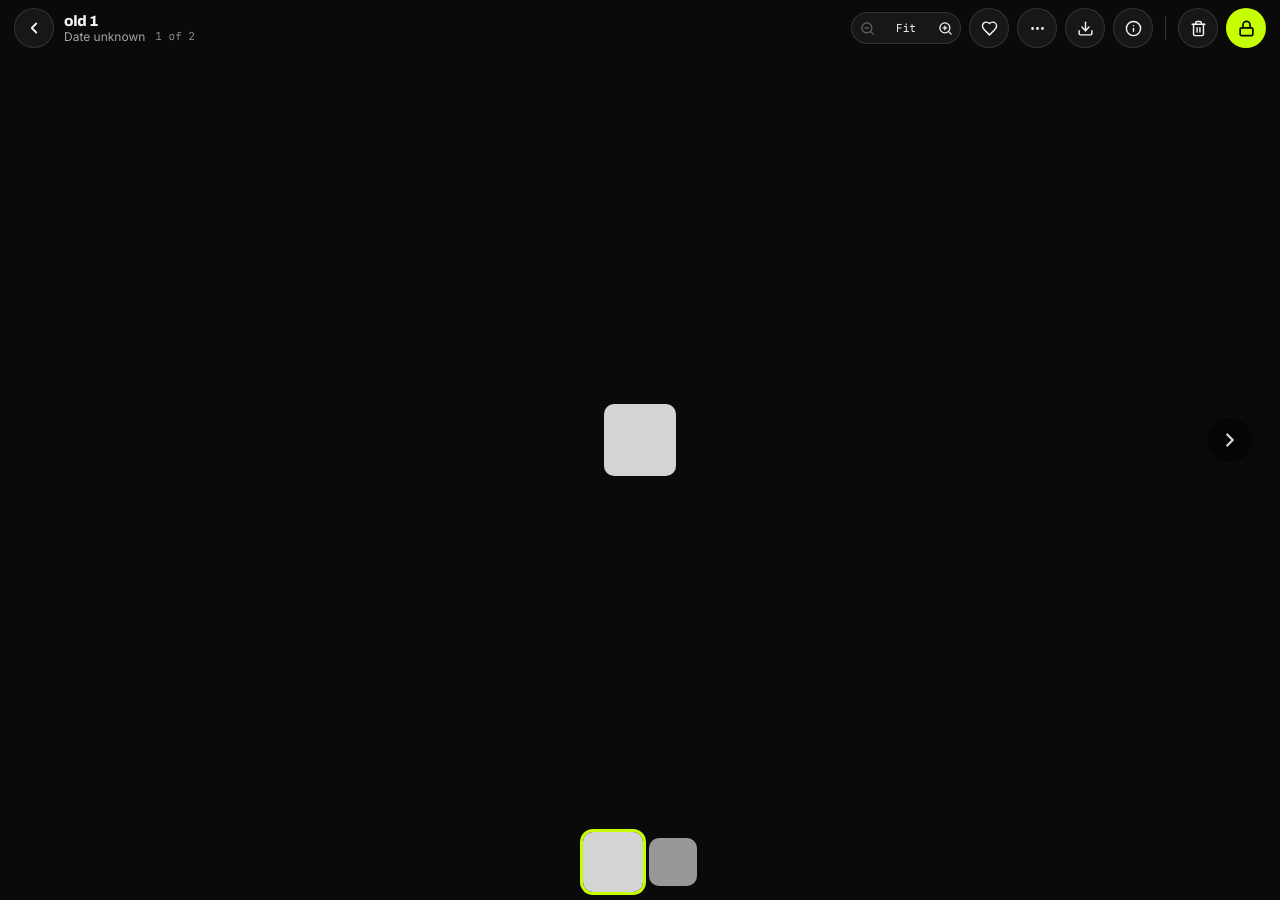
it: Old photos in the viewer › shows nothing extra until asked, and offers only the improvement that fits
This screenshot has width=1280, height=900.
Expected: the element "Add colour" is not shown
Click the button named "More" at point(1037, 28), box [1017,8,1057,48]
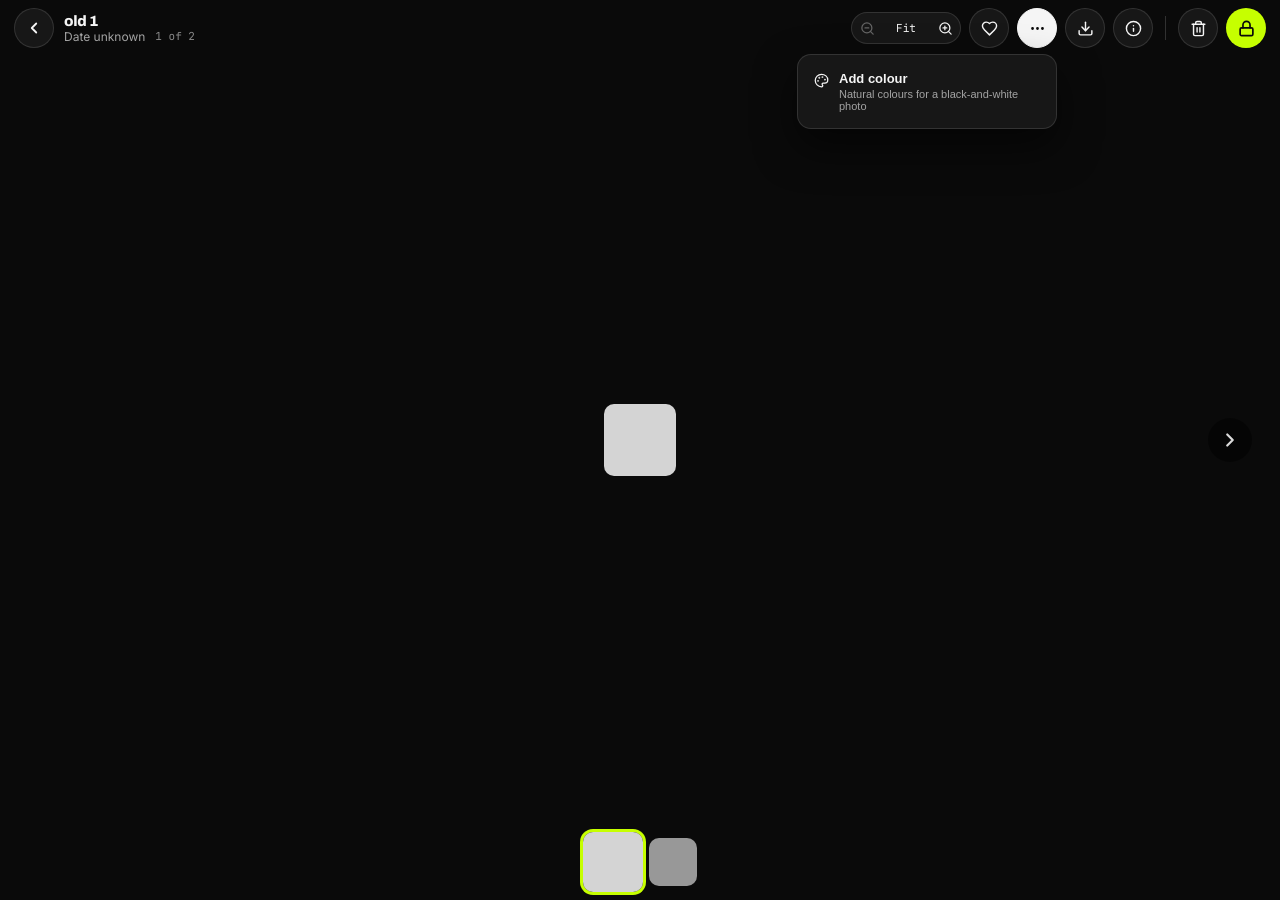
Now the menu item "Add colour Natural colours for a black-and-white photo" is shown, box [804,61,1050,122]
